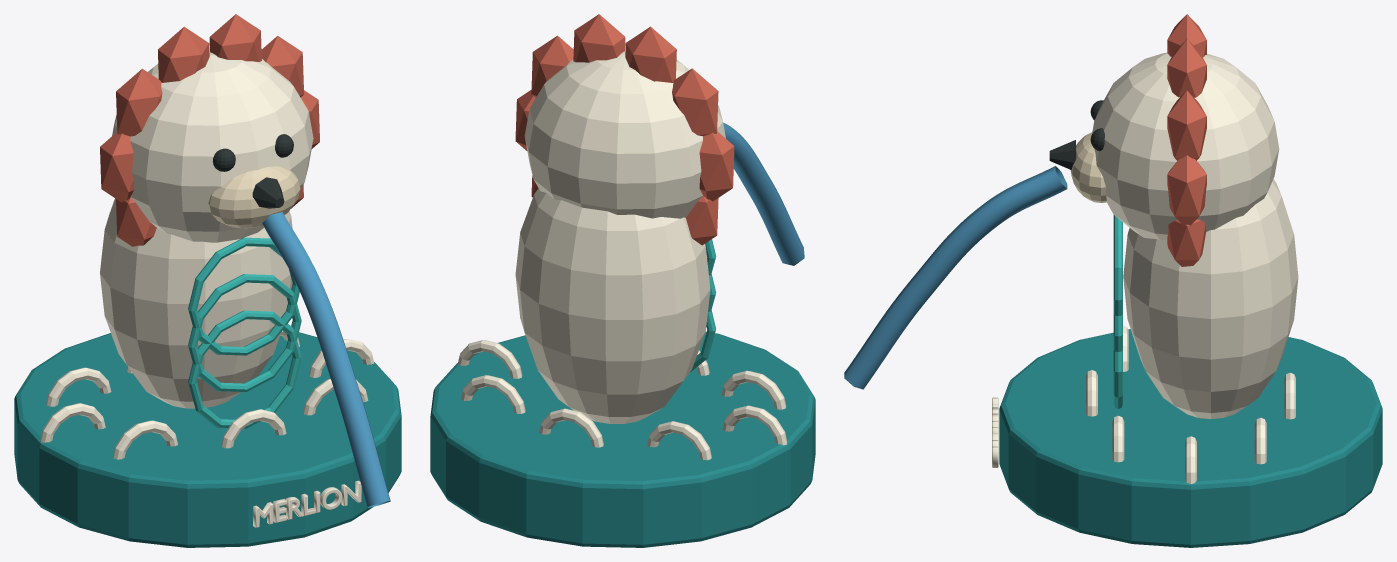
The model's file is merlion-v2.glb.
3 views of the same model, side by side, from view 1: azimuth 30°, elevation 25°; view 2: azimuth 150°, elevation 25°; view 3: azimuth 270°, elevation 25° (orthographic).
Parts seen in each view (by area): view 1: MERLION WATERFRONT KIT · Deep teal, MERLION WATERFRONT KIT · Chalk, MERLION WATERFRONT KIT · Terracotta, MERLION WATERFRONT KIT · Weathered teal, MERLION WATERFRONT KIT · Utility blue, MERLION WATERFRONT KIT · Warm plaster, MERLION WATERFRONT KIT · Ink; view 2: MERLION WATERFRONT KIT · Chalk, MERLION WATERFRONT KIT · Deep teal, MERLION WATERFRONT KIT · Terracotta, MERLION WATERFRONT KIT · Utility blue, MERLION WATERFRONT KIT · Weathered teal; view 3: MERLION WATERFRONT KIT · Deep teal, MERLION WATERFRONT KIT · Chalk, MERLION WATERFRONT KIT · Terracotta, MERLION WATERFRONT KIT · Utility blue, MERLION WATERFRONT KIT · Weathered teal, MERLION WATERFRONT KIT · Warm plaster, MERLION WATERFRONT KIT · Ink.
Boxes of the visible parts, x1=… form: MERLION WATERFRONT KIT · Deep teal: x1=14, y1=332, x2=401, y2=547; MERLION WATERFRONT KIT · Chalk: x1=40, y1=47, x2=374, y2=527; MERLION WATERFRONT KIT · Terracotta: x1=100, y1=14, x2=319, y2=246; MERLION WATERFRONT KIT · Weathered teal: x1=188, y1=237, x2=301, y2=428; MERLION WATERFRONT KIT · Utility blue: x1=262, y1=212, x2=390, y2=507; MERLION WATERFRONT KIT · Warm plaster: x1=208, y1=166, x2=300, y2=228; MERLION WATERFRONT KIT · Ink: x1=212, y1=134, x2=293, y2=208; MERLION WATERFRONT KIT · Chalk: x1=457, y1=45, x2=787, y2=460; MERLION WATERFRONT KIT · Deep teal: x1=430, y1=331, x2=815, y2=547; MERLION WATERFRONT KIT · Terracotta: x1=515, y1=14, x2=734, y2=245; MERLION WATERFRONT KIT · Utility blue: x1=723, y1=122, x2=804, y2=265; MERLION WATERFRONT KIT · Weathered teal: x1=690, y1=239, x2=716, y2=372; MERLION WATERFRONT KIT · Deep teal: x1=999, y1=329, x2=1382, y2=547; MERLION WATERFRONT KIT · Chalk: x1=992, y1=52, x2=1298, y2=483; MERLION WATERFRONT KIT · Terracotta: x1=1167, y1=14, x2=1206, y2=266; MERLION WATERFRONT KIT · Utility blue: x1=844, y1=166, x2=1067, y2=389; MERLION WATERFRONT KIT · Weathered teal: x1=1113, y1=215, x2=1122, y2=408; MERLION WATERFRONT KIT · Warm plaster: x1=1070, y1=132, x2=1106, y2=202; MERLION WATERFRONT KIT · Ink: x1=1049, y1=100, x2=1104, y2=169.
Bounding box in the file's own units: 2.9 × 3.7 × 4.07.
